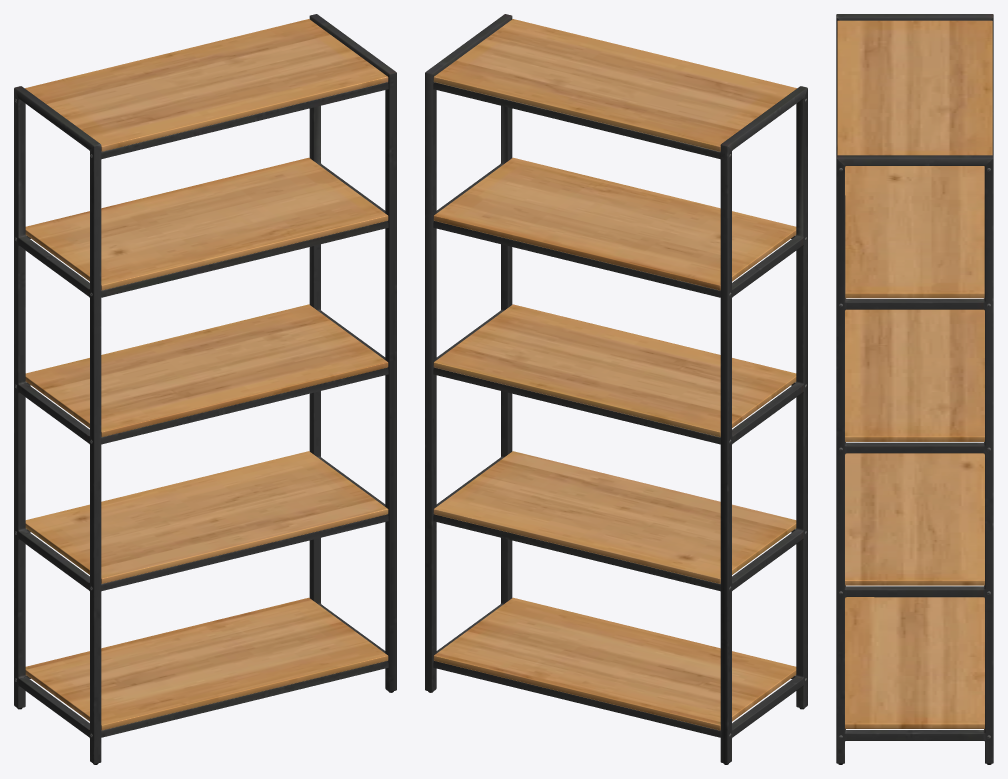
The model's file is steel_frame_shelves_01.glb.
3 renders of one model, left to right at view 1: azimuth 30°, elevation 25°; view 2: azimuth 150°, elevation 25°; view 3: azimuth 270°, elevation 25°, orthographic. The views are drawn at different scales.
Visible parts, largest first — view 1: steel_frame_shelves_01; view 2: steel_frame_shelves_01; view 3: steel_frame_shelves_01.
Part boxes in pixels (x1,y1,x2,y2): steel_frame_shelves_01: (14, 14, 396, 764); steel_frame_shelves_01: (425, 14, 807, 764); steel_frame_shelves_01: (836, 14, 993, 764).
Bounding box in the file's own units: 10.97 × 21.41 × 5.02.
Materials: 1 (1 with a texture image).
